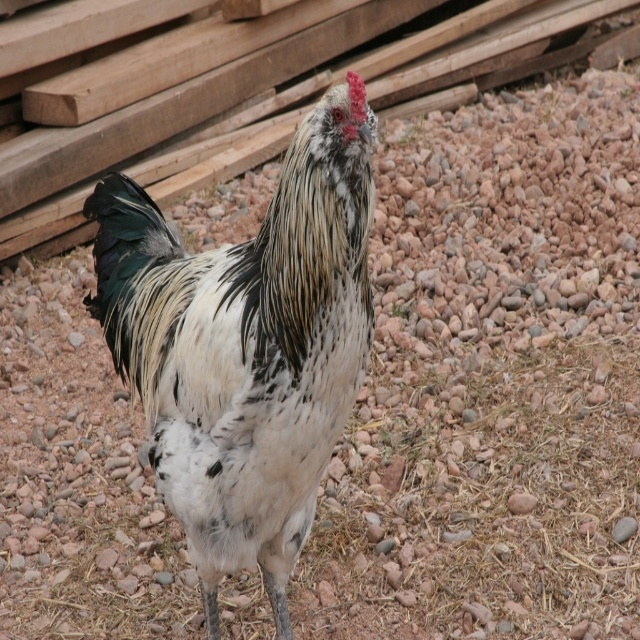Chicken: (83, 71, 378, 640)
